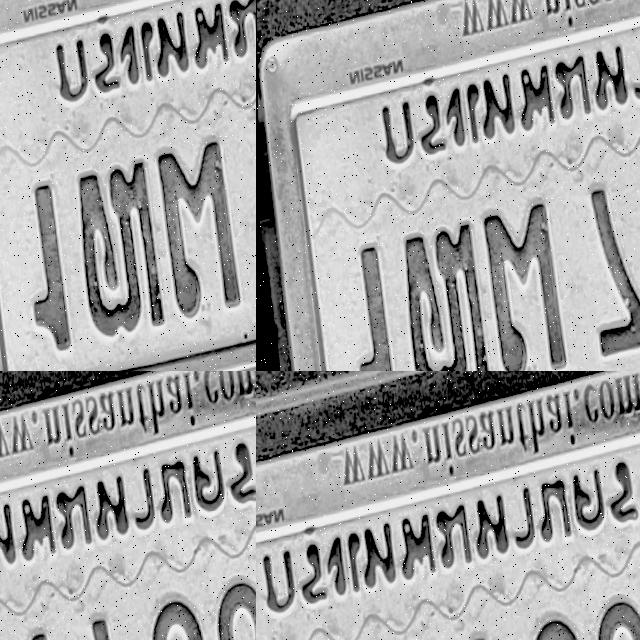license-plate: (256, 371, 640, 640)
